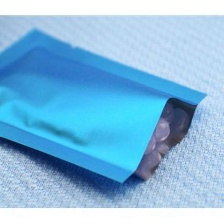snack: (0, 21, 213, 193)
